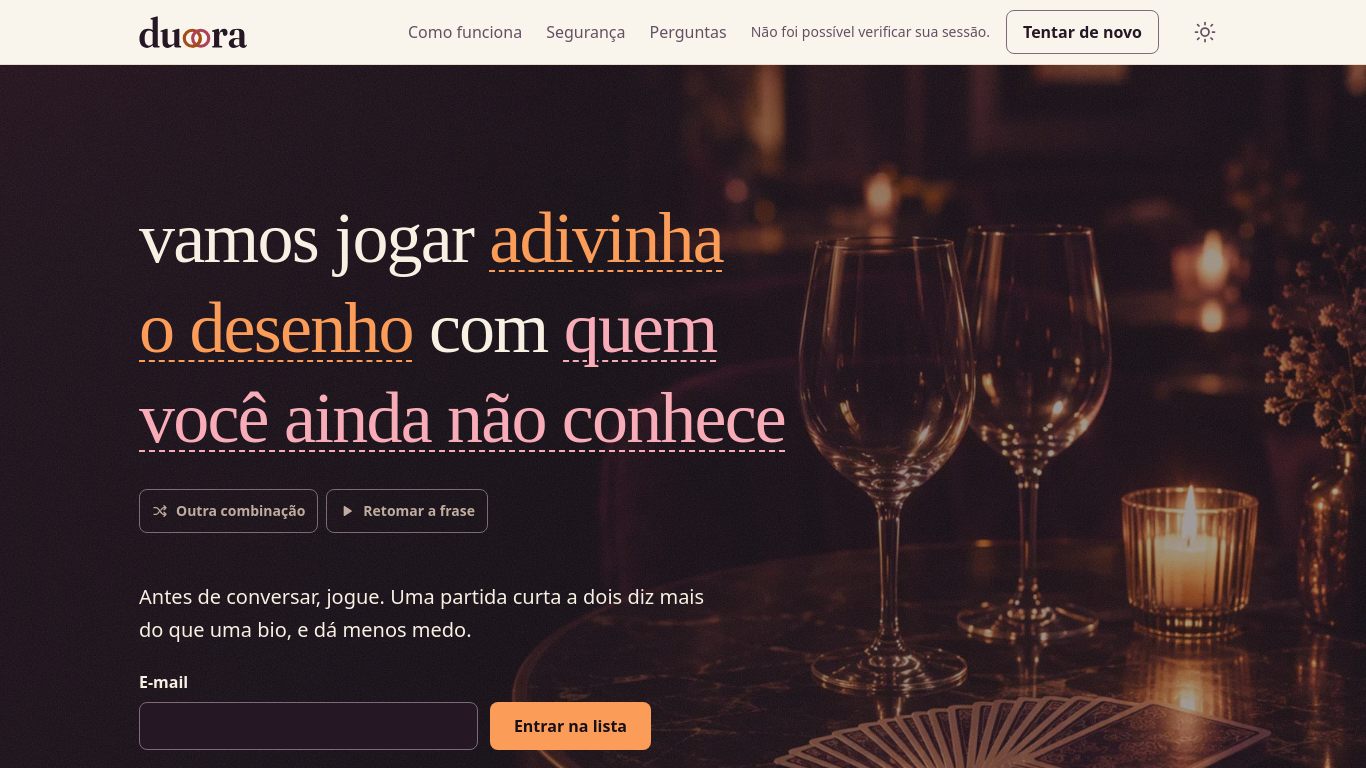
Test case: session controls (desktop) › checks the session again on "Tentar de novo"
Click the button "Tentar de novo".
click(1082, 32)  # box [1006,10,1159,54]
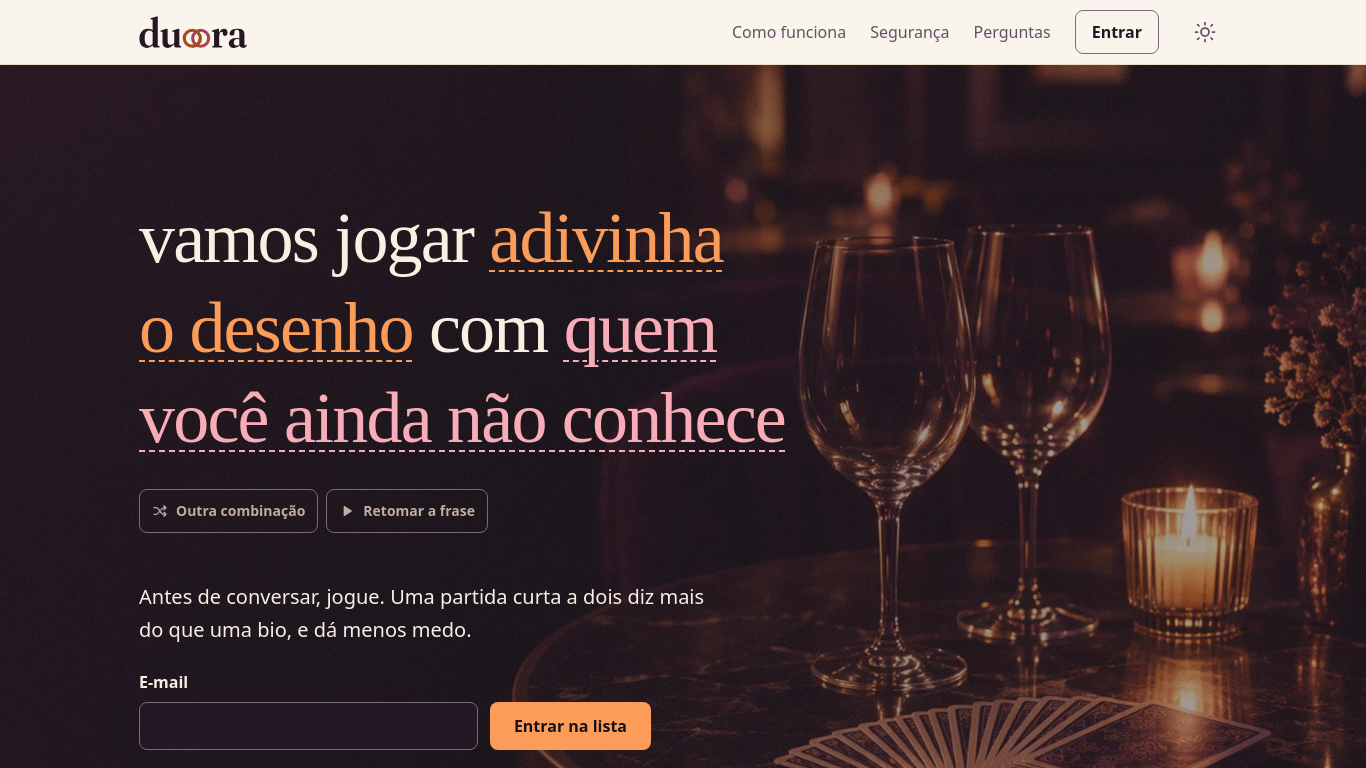
Expected: the link "Entrar" is shown, [1075,10,1159,54]
Expected: the text "Não foi possível verificar sua sessão." is gone
